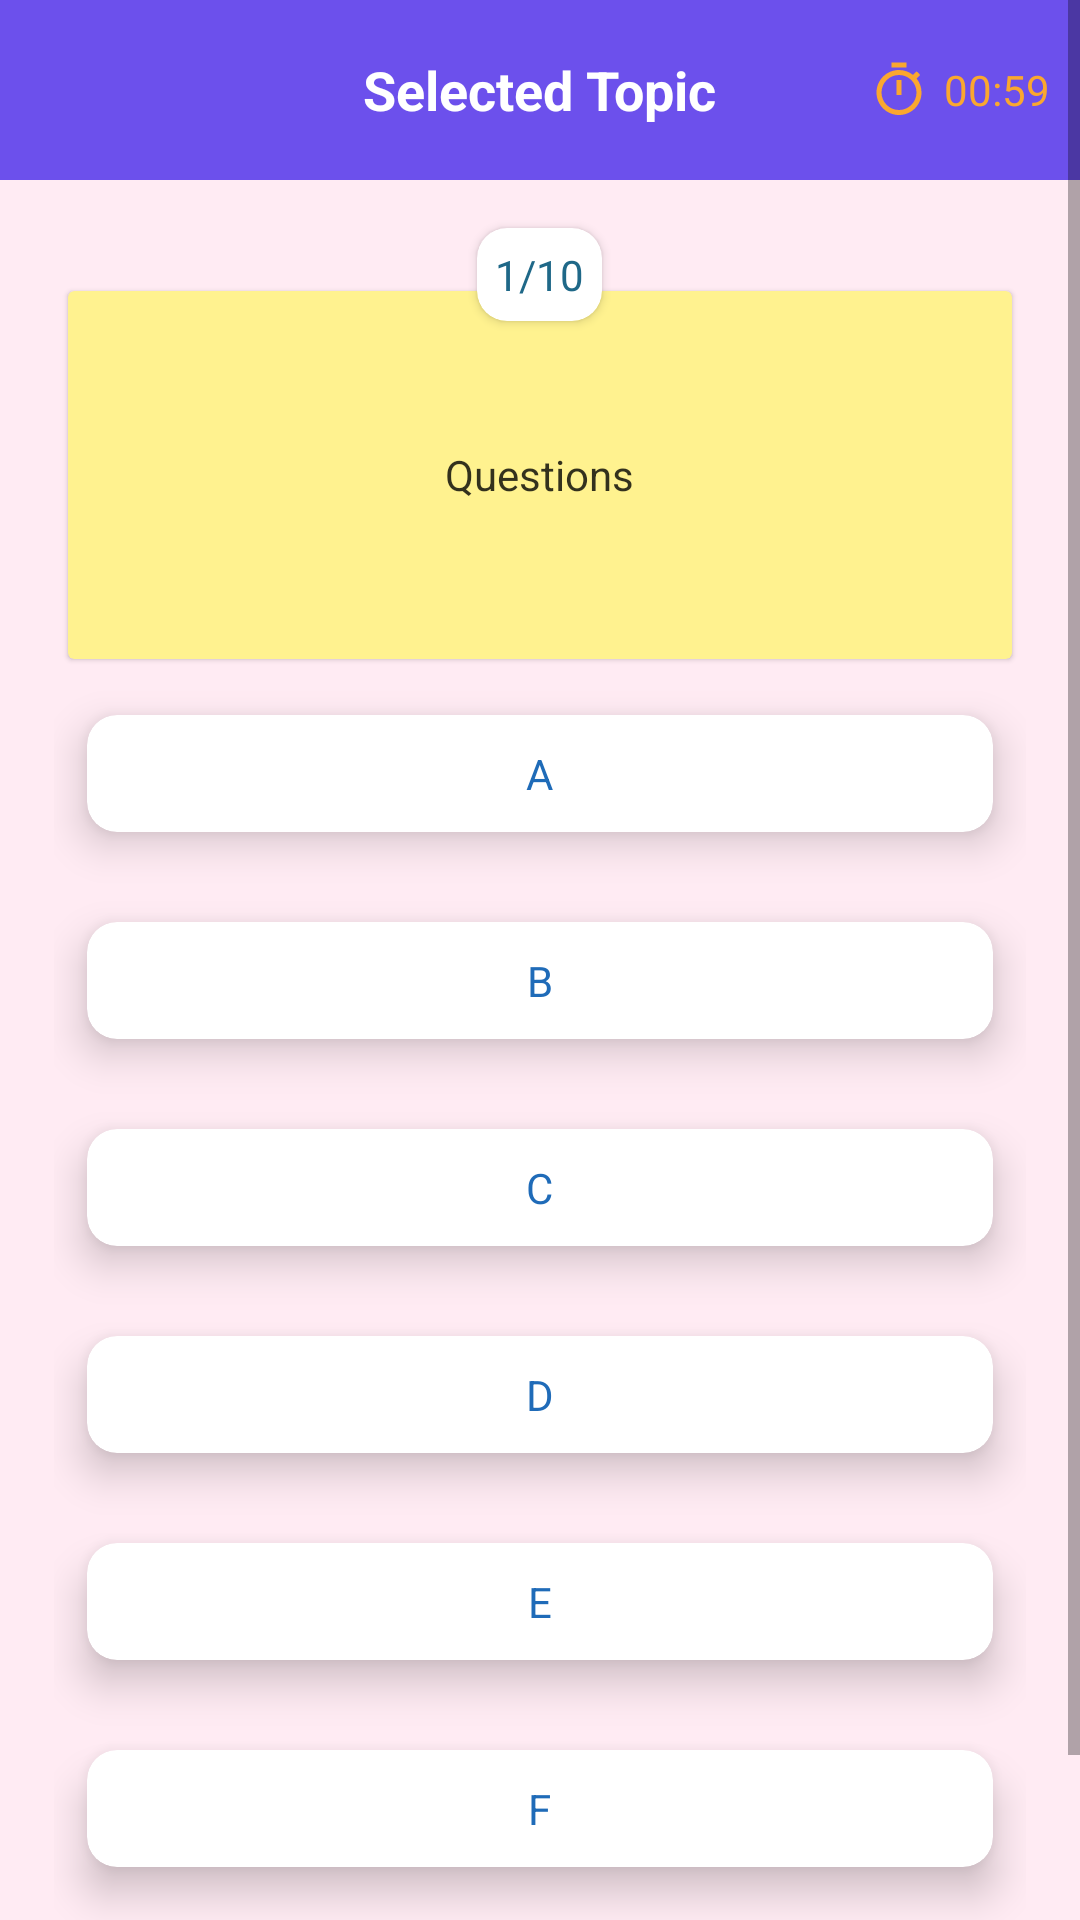

Icon click points for this 1080×1920 phone screenshot, format [x,y]:
timer: [899,88]
